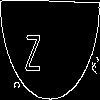Z: (25, 25, 41, 72)
